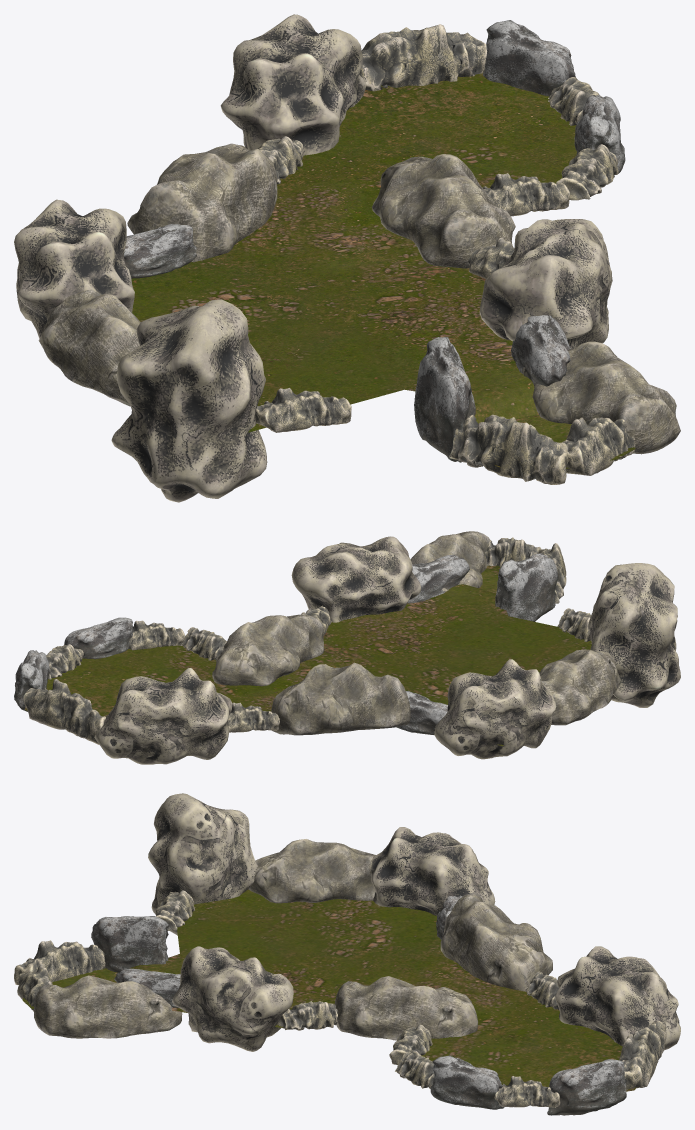
The model's file is AGSStage.fbx.
3 renders of one model, top to bottom at view 1: azimuth 30°, elevation 25°; view 2: azimuth 150°, elevation 25°; view 3: azimuth 270°, elevation 25°, orthographic. The views are drawn at different scales.
Visible parts, largest first — view 1: 平面, rock6_LOD0.001, rock6_LOD0.003, rock6_LOD0.002, rock5_LOD0.002, rock5_LOD0.001, rock6_LOD0, rock5_LOD0.003, rock5_LOD0, rock3_LOD0.008, rock3_LOD0.003, rock1_LOD0.002 (+11 smaller); view 2: 平面, rock6_LOD0.001, rock6_LOD0.003, rock6_LOD0, rock6_LOD0.002, rock5_LOD0.002, rock5_LOD0.001, rock5_LOD0, rock1_LOD0.002, rock3_LOD0.008, rock5_LOD0.003, rock1_LOD0.003 (+10 smaller); view 3: 平面, rock6_LOD0.001, rock6_LOD0.002, rock6_LOD0.003, rock6_LOD0, rock5_LOD0.003, rock5_LOD0.001, rock5_LOD0.002, rock5_LOD0, rock1_LOD0.002, rock1_LOD0.004, rock1_LOD0.003 (+10 smaller).
Boxes of the visible parts, x1=… form: 平面: x1=131, y1=73, x2=635, y2=468; rock6_LOD0.001: x1=111, y1=299, x2=267, y2=502; rock6_LOD0.003: x1=220, y1=14, x2=366, y2=155; rock6_LOD0.002: x1=479, y1=219, x2=612, y2=348; rock5_LOD0.002: x1=127, y1=143, x2=277, y2=262; rock5_LOD0.001: x1=372, y1=154, x2=515, y2=268; rock6_LOD0: x1=14, y1=199, x2=134, y2=338; rock5_LOD0.003: x1=522, y1=341, x2=680, y2=454; rock5_LOD0: x1=38, y1=289, x2=140, y2=406; rock3_LOD0.008: x1=359, y1=24, x2=487, y2=91; rock3_LOD0.003: x1=449, y1=414, x2=568, y2=484; rock1_LOD0.002: x1=414, y1=337, x2=475, y2=462; 平面: x1=24, y1=565, x2=591, y2=746; rock6_LOD0.001: x1=588, y1=563, x2=680, y2=707; rock6_LOD0.003: x1=94, y1=668, x2=232, y2=764; rock6_LOD0: x1=434, y1=659, x2=556, y2=759; rock6_LOD0.002: x1=291, y1=536, x2=420, y2=622; rock5_LOD0.002: x1=271, y1=662, x2=410, y2=735; rock5_LOD0.001: x1=212, y1=614, x2=324, y2=686; rock5_LOD0: x1=539, y1=649, x2=621, y2=725; rock1_LOD0.002: x1=495, y1=553, x2=557, y2=621; rock3_LOD0.008: x1=23, y1=679, x2=105, y2=744; rock5_LOD0.003: x1=410, y1=531, x2=489, y2=591; rock1_LOD0.003: x1=64, y1=617, x2=133, y2=659; 平面: x1=22, y1=889, x2=636, y2=1091; rock6_LOD0.001: x1=148, y1=793, x2=257, y2=935; rock6_LOD0.002: x1=172, y1=946, x2=293, y2=1051; rock6_LOD0.003: x1=555, y1=946, x2=680, y2=1050; rock6_LOD0: x1=370, y1=827, x2=495, y2=915; rock5_LOD0.003: x1=34, y1=975, x2=182, y2=1038; rock5_LOD0.001: x1=334, y1=976, x2=478, y2=1040; rock5_LOD0.002: x1=440, y1=892, x2=552, y2=991; rock5_LOD0: x1=248, y1=839, x2=375, y2=903; rock1_LOD0.002: x1=91, y1=916, x2=168, y2=972; rock1_LOD0.004: x1=547, y1=1059, x2=626, y2=1115; rock1_LOD0.003: x1=430, y1=1055, x2=504, y2=1109.
Size of what is drawn, in the model's own units: 12168 by 3250 by 13954.
Materials: 5 (5 with a texture image).
